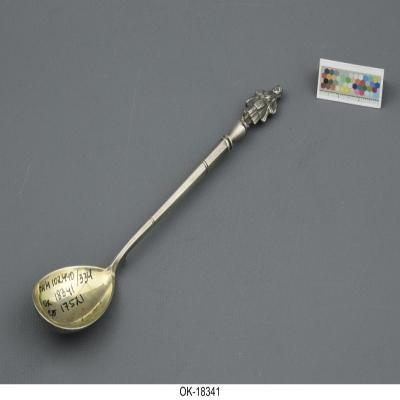dpi: (32, 85, 282, 331)
